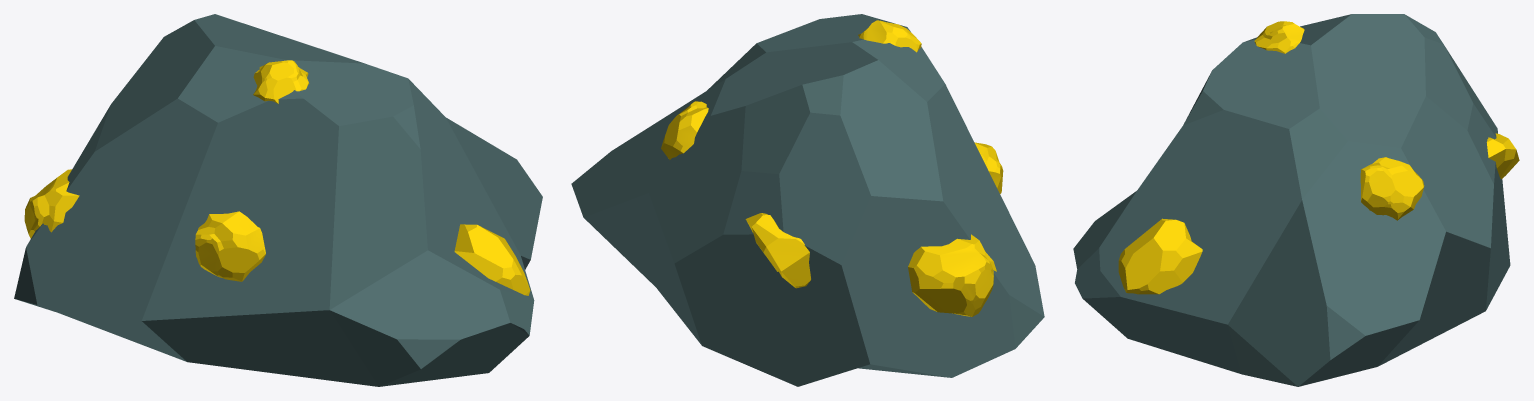
Rendered from Gold3.fbx.
3 renders of one model, left to right at view 1: azimuth 30°, elevation 25°; view 2: azimuth 150°, elevation 25°; view 3: azimuth 270°, elevation 25°, orthographic. The views are drawn at different scales.
Parts seen in each view (by area): view 1: Rock2, Nodes.002; view 2: Rock2, Nodes.002; view 3: Rock2, Nodes.002.
Boxes of the visible parts, x1=… form: Rock2: x1=14, y1=14, x2=542, y2=386; Nodes.002: x1=24, y1=60, x2=530, y2=295; Rock2: x1=571, y1=14, x2=1044, y2=386; Nodes.002: x1=661, y1=20, x2=1003, y2=316; Rock2: x1=1073, y1=14, x2=1510, y2=386; Nodes.002: x1=1118, y1=21, x2=1519, y2=294.
Size of the model in its own units: 183 by 105 by 155.
